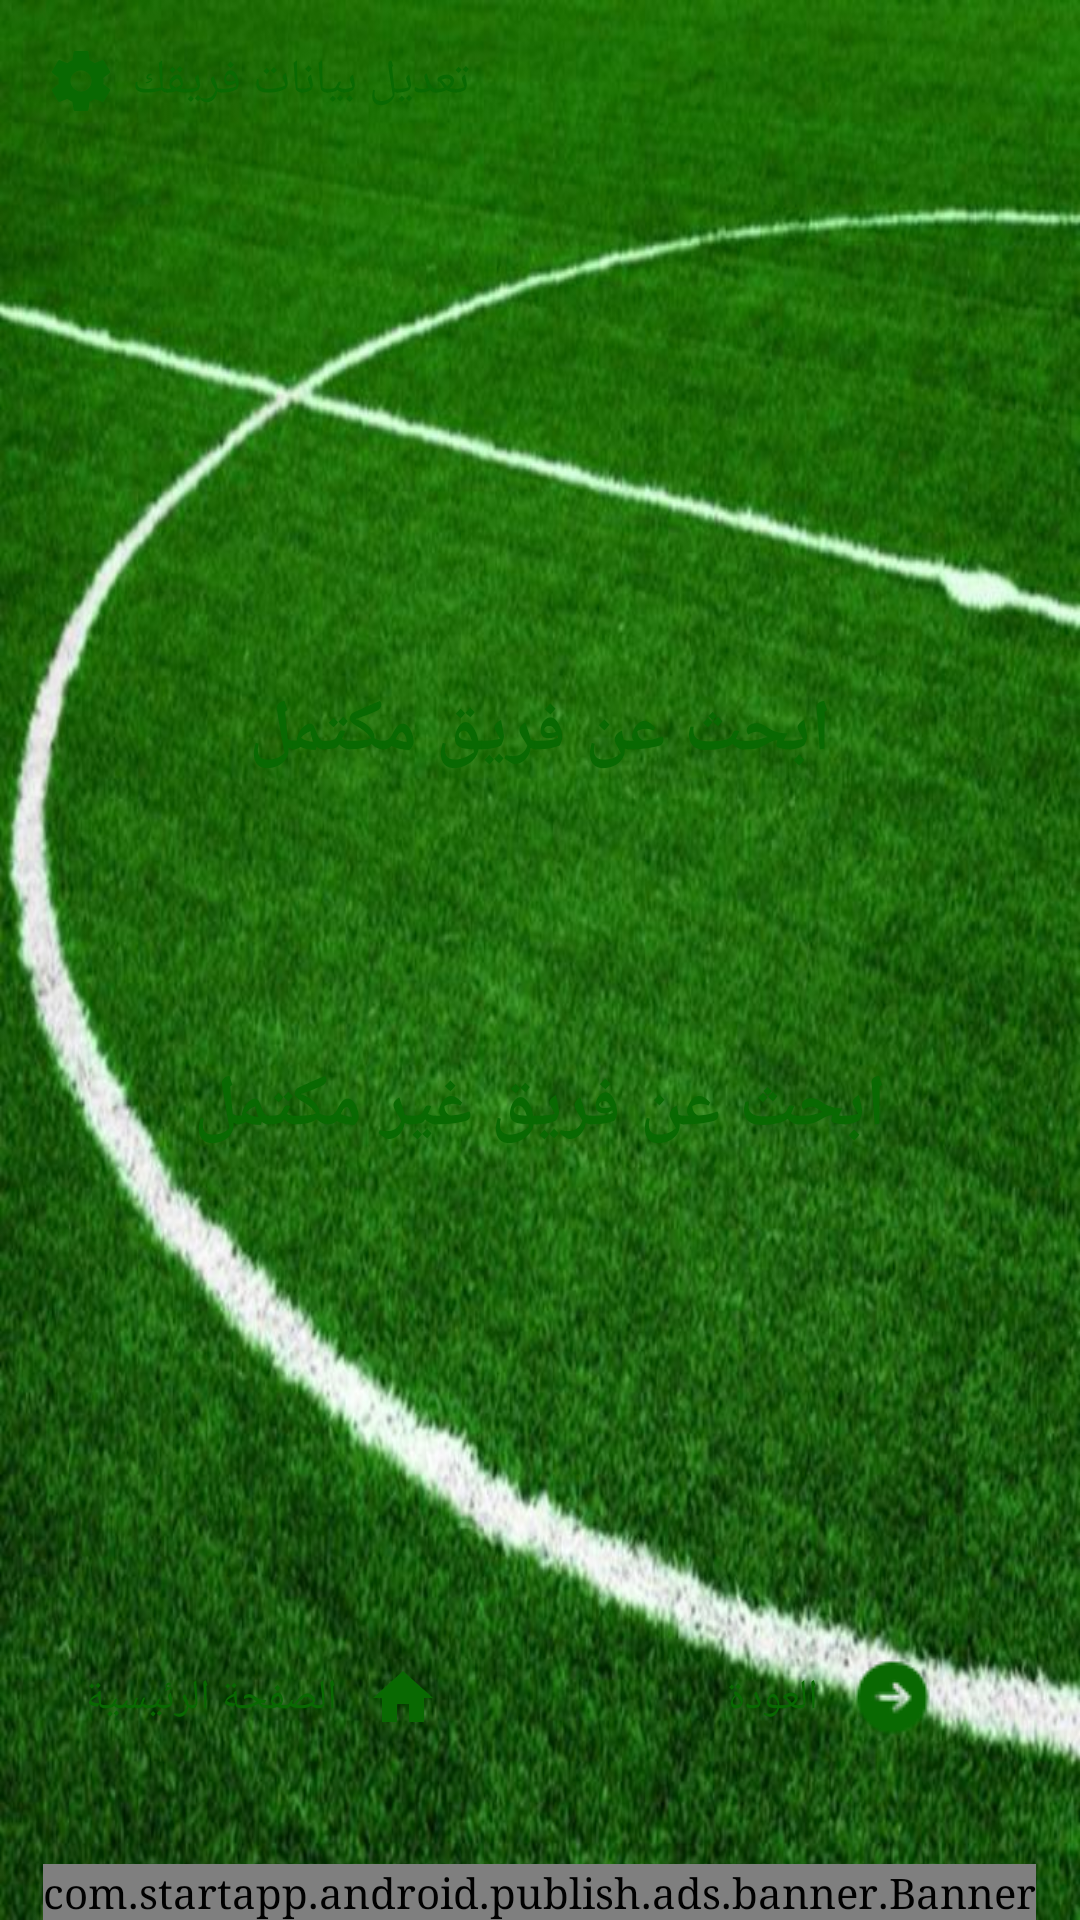

Named icons in this screenshot (1080 × 1920) and their centers, [x,y]:
home: [403,1698]
